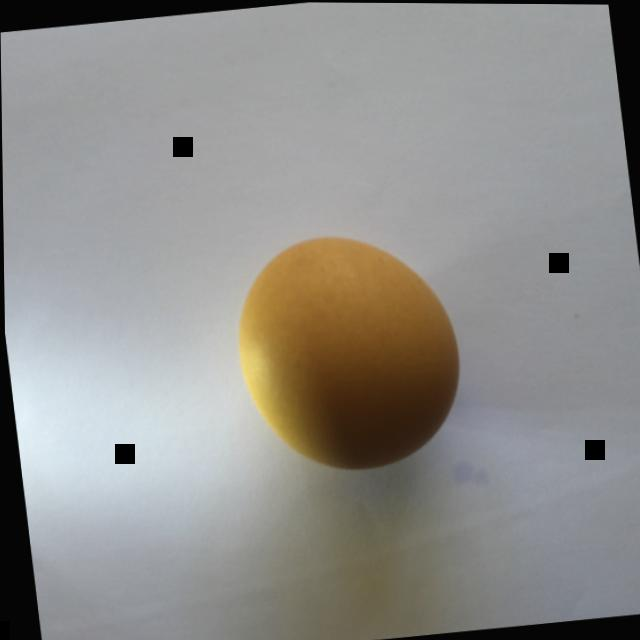Egg: (190, 169, 515, 529)
